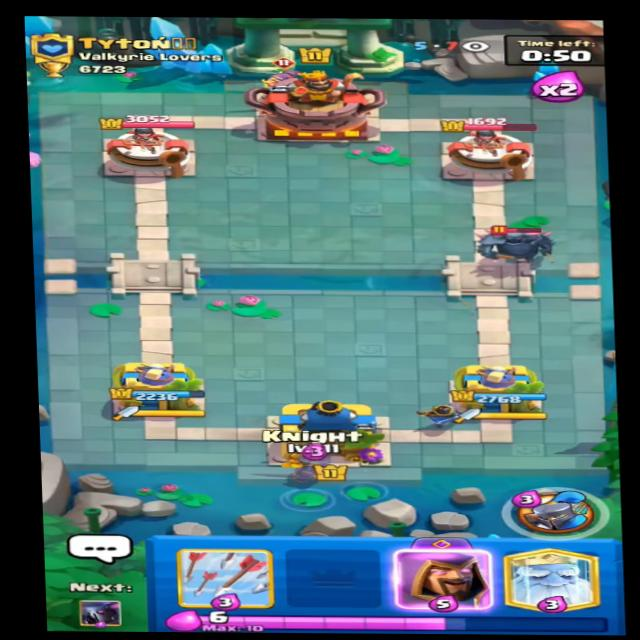EvoKnight: (247, 60, 324, 107)
Pekka: (474, 218, 561, 270)
